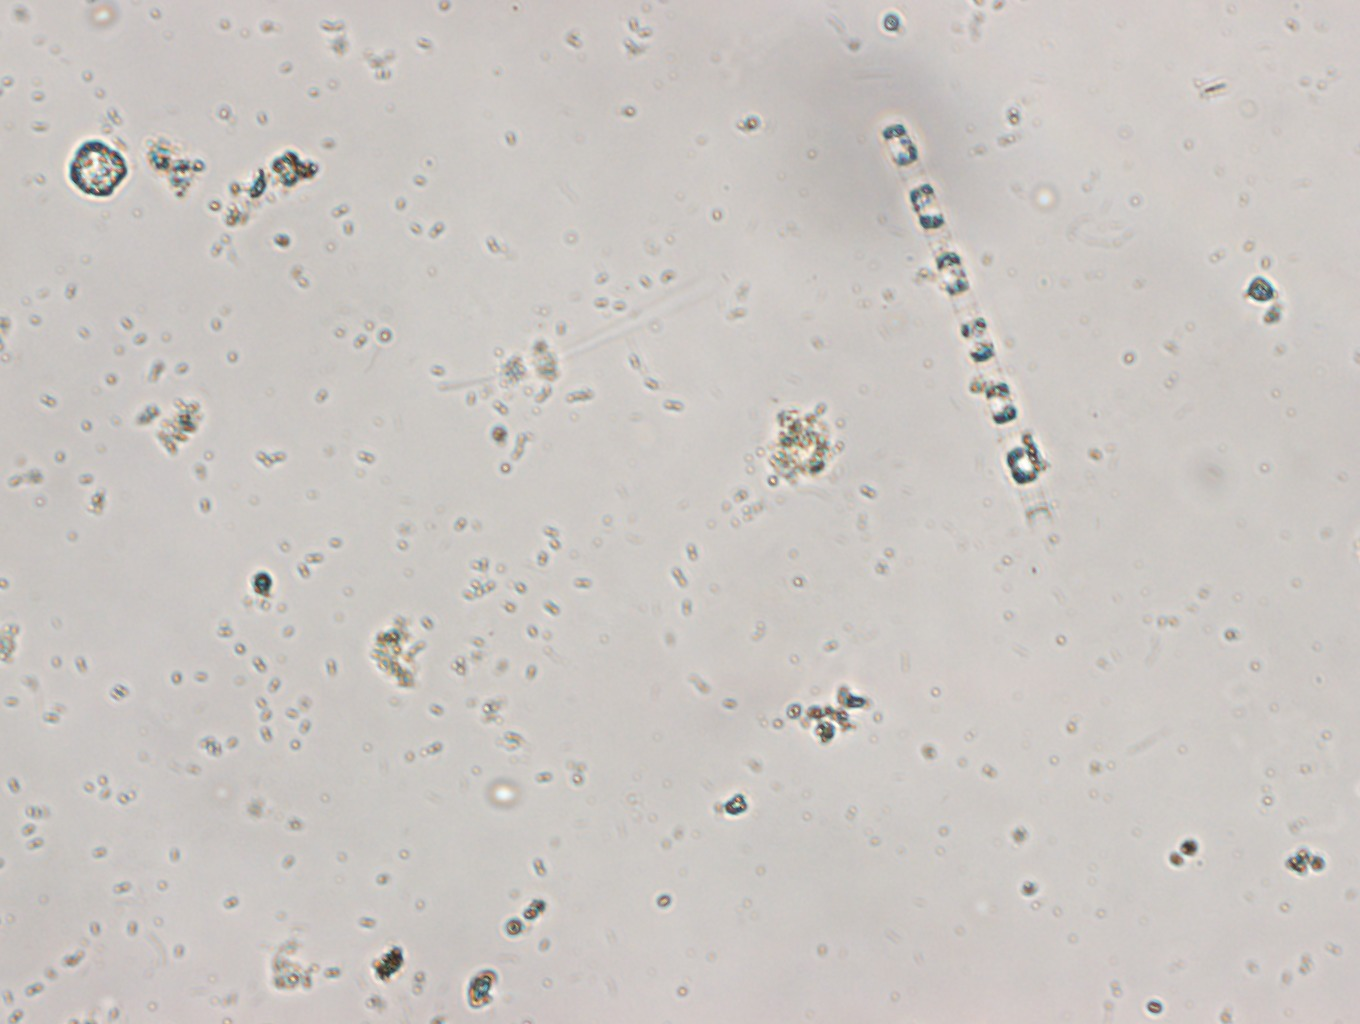skeletonema: (883, 119, 1056, 539)
